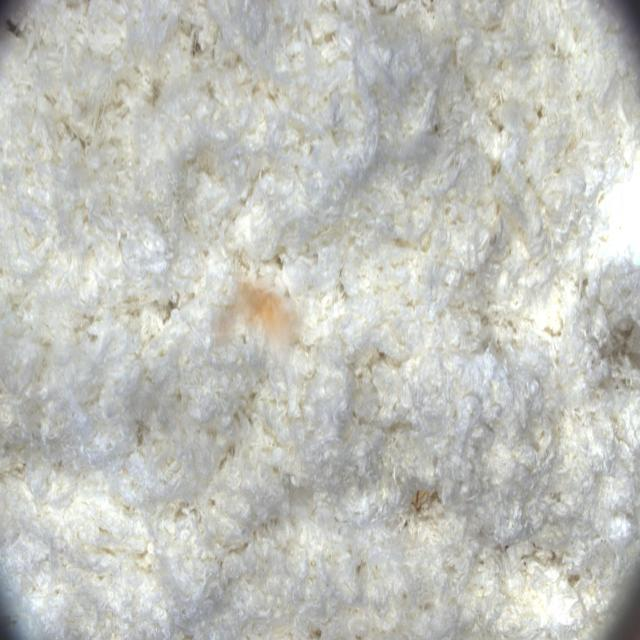dust: (210, 273, 311, 368)
